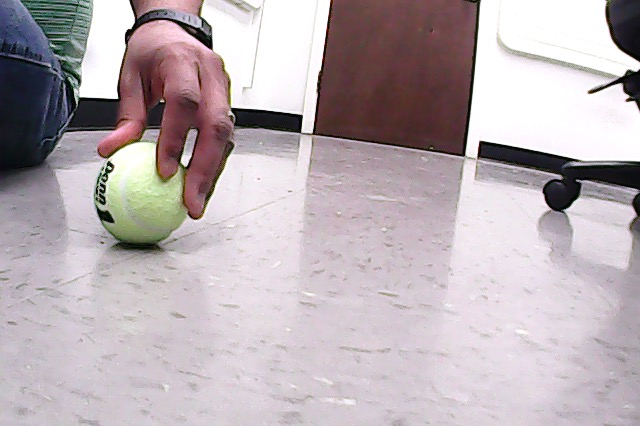ball: (91, 140, 194, 249)
